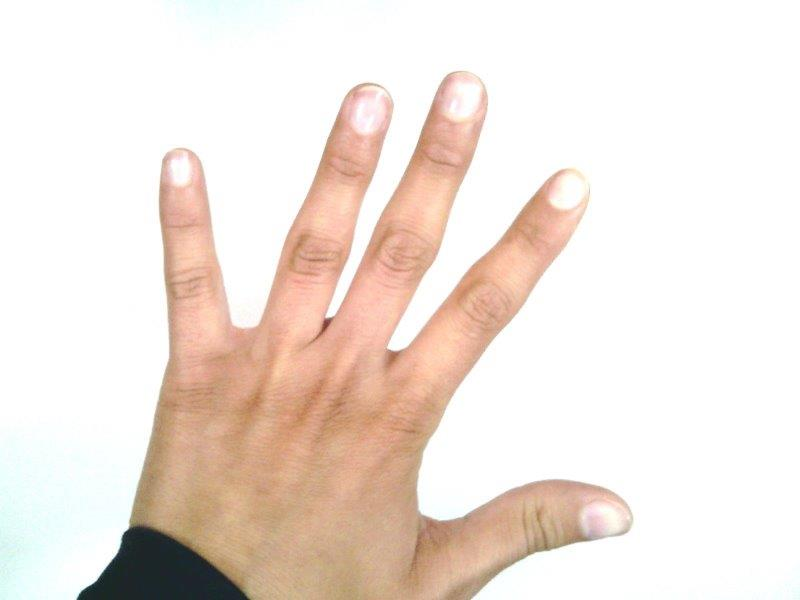hand: (140, 70, 632, 579)
